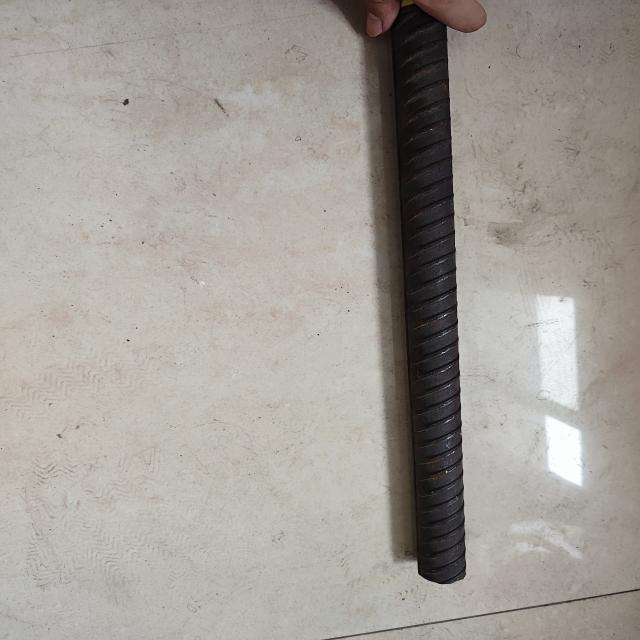ribbed bar: (384, 34, 480, 584)
